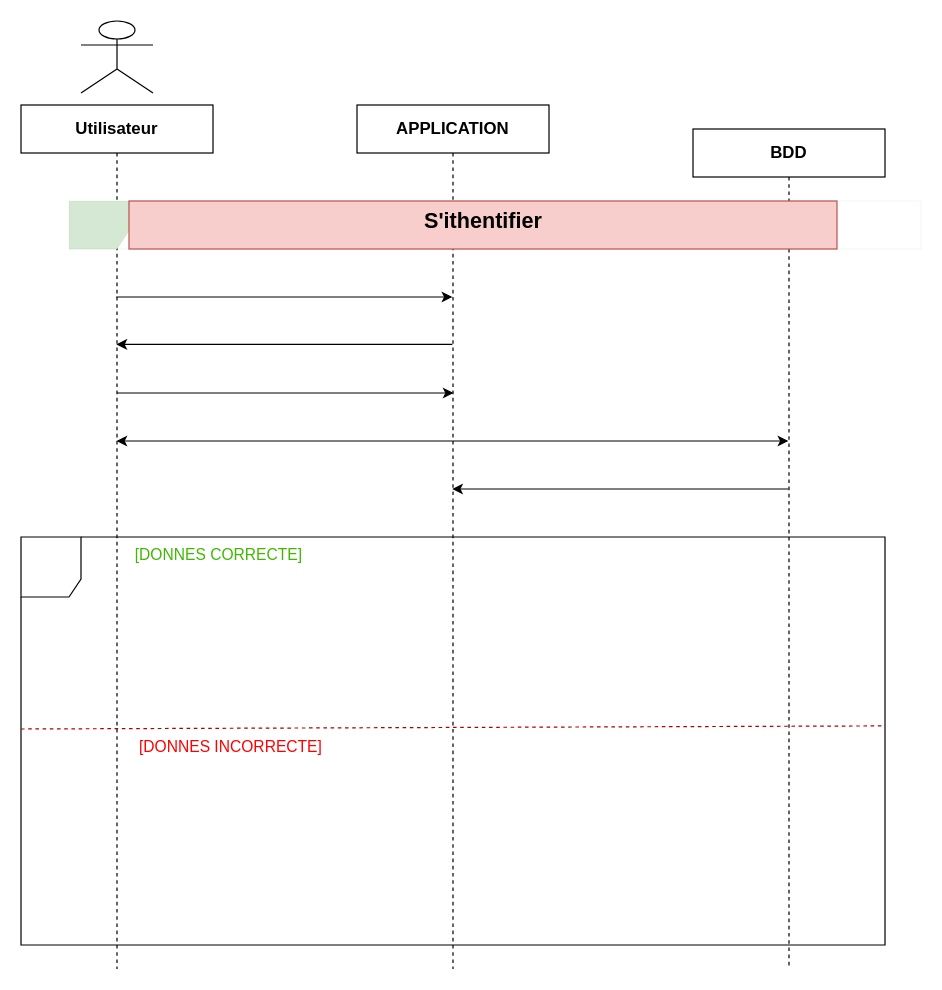
This 942x990 diagram has some shape labels left out. The box of each missing label's shape, as (x1, y1, x2, y2) in pixels:
ALT: (20, 536, 885, 945)
Ref: (68, 200, 920, 248)
